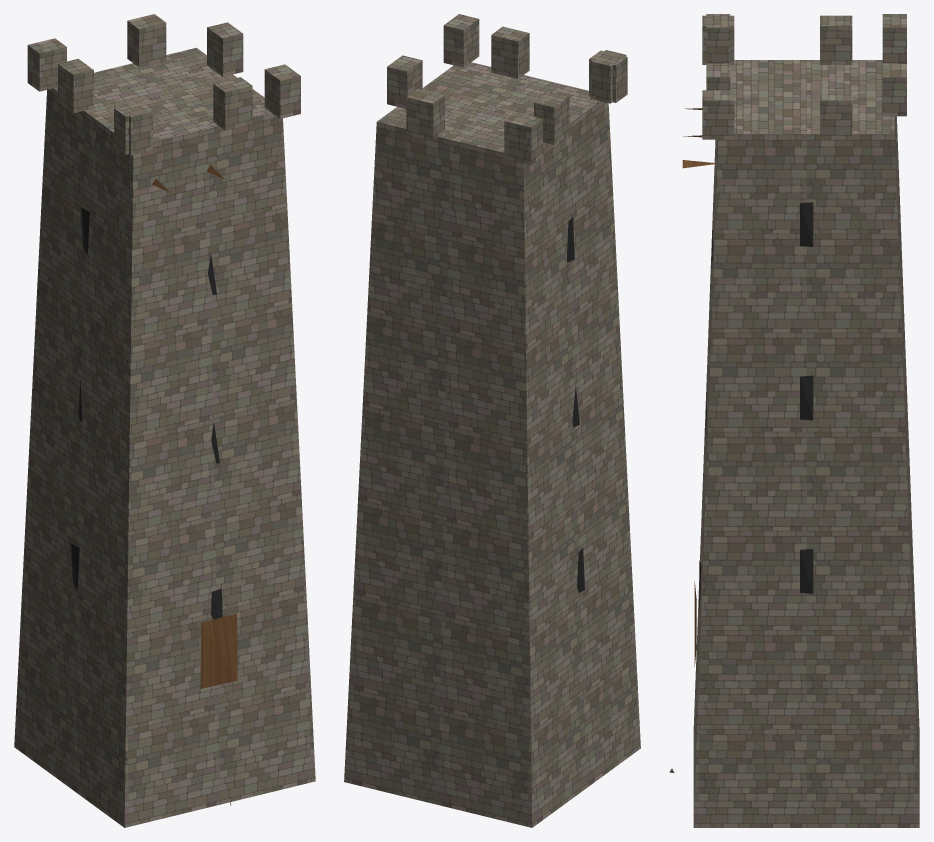
Rendered from watch_tower_lod1.glb.
3 views of the same model, side by side, from view 1: azimuth 30°, elevation 25°; view 2: azimuth 150°, elevation 25°; view 3: azimuth 270°, elevation 25° (orthographic). The views are drawn at different scales.
Parts seen in each view (by area): view 1: m; view 2: m; view 3: m.
Boxes of the visible parts, x1=… form: m: x1=14, y1=14, x2=315, y2=827; m: x1=344, y1=14, x2=640, y2=827; m: x1=669, y1=14, x2=919, y2=827.
Bounding box in the file's own units: 4.2 × 14.8 × 4.65.
Materials: 4 (3 with a texture image).
